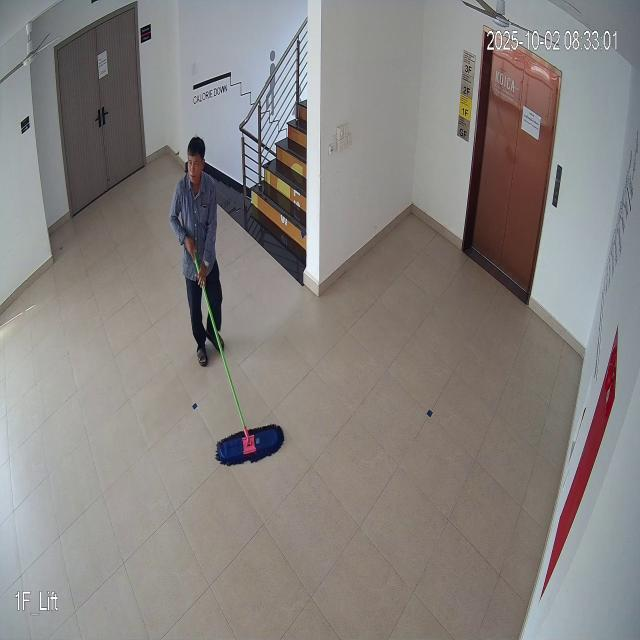face: (184, 130, 209, 189)
